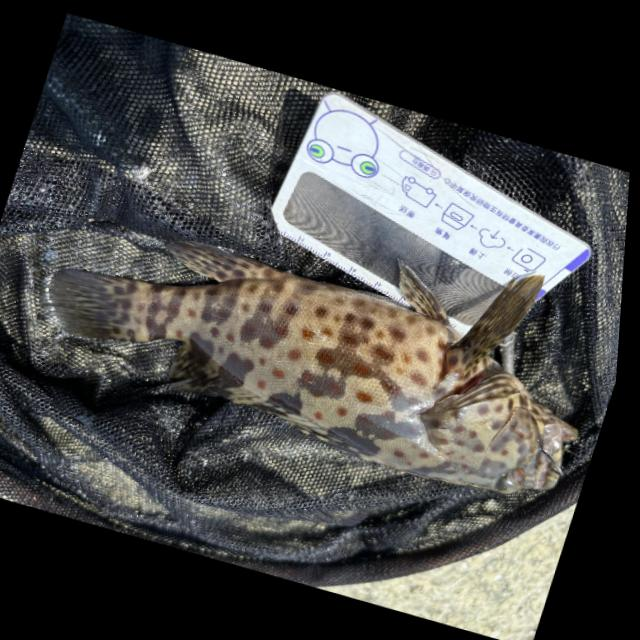Groupers: (11, 140, 631, 521)
